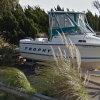Boat: (17, 9, 99, 88)
